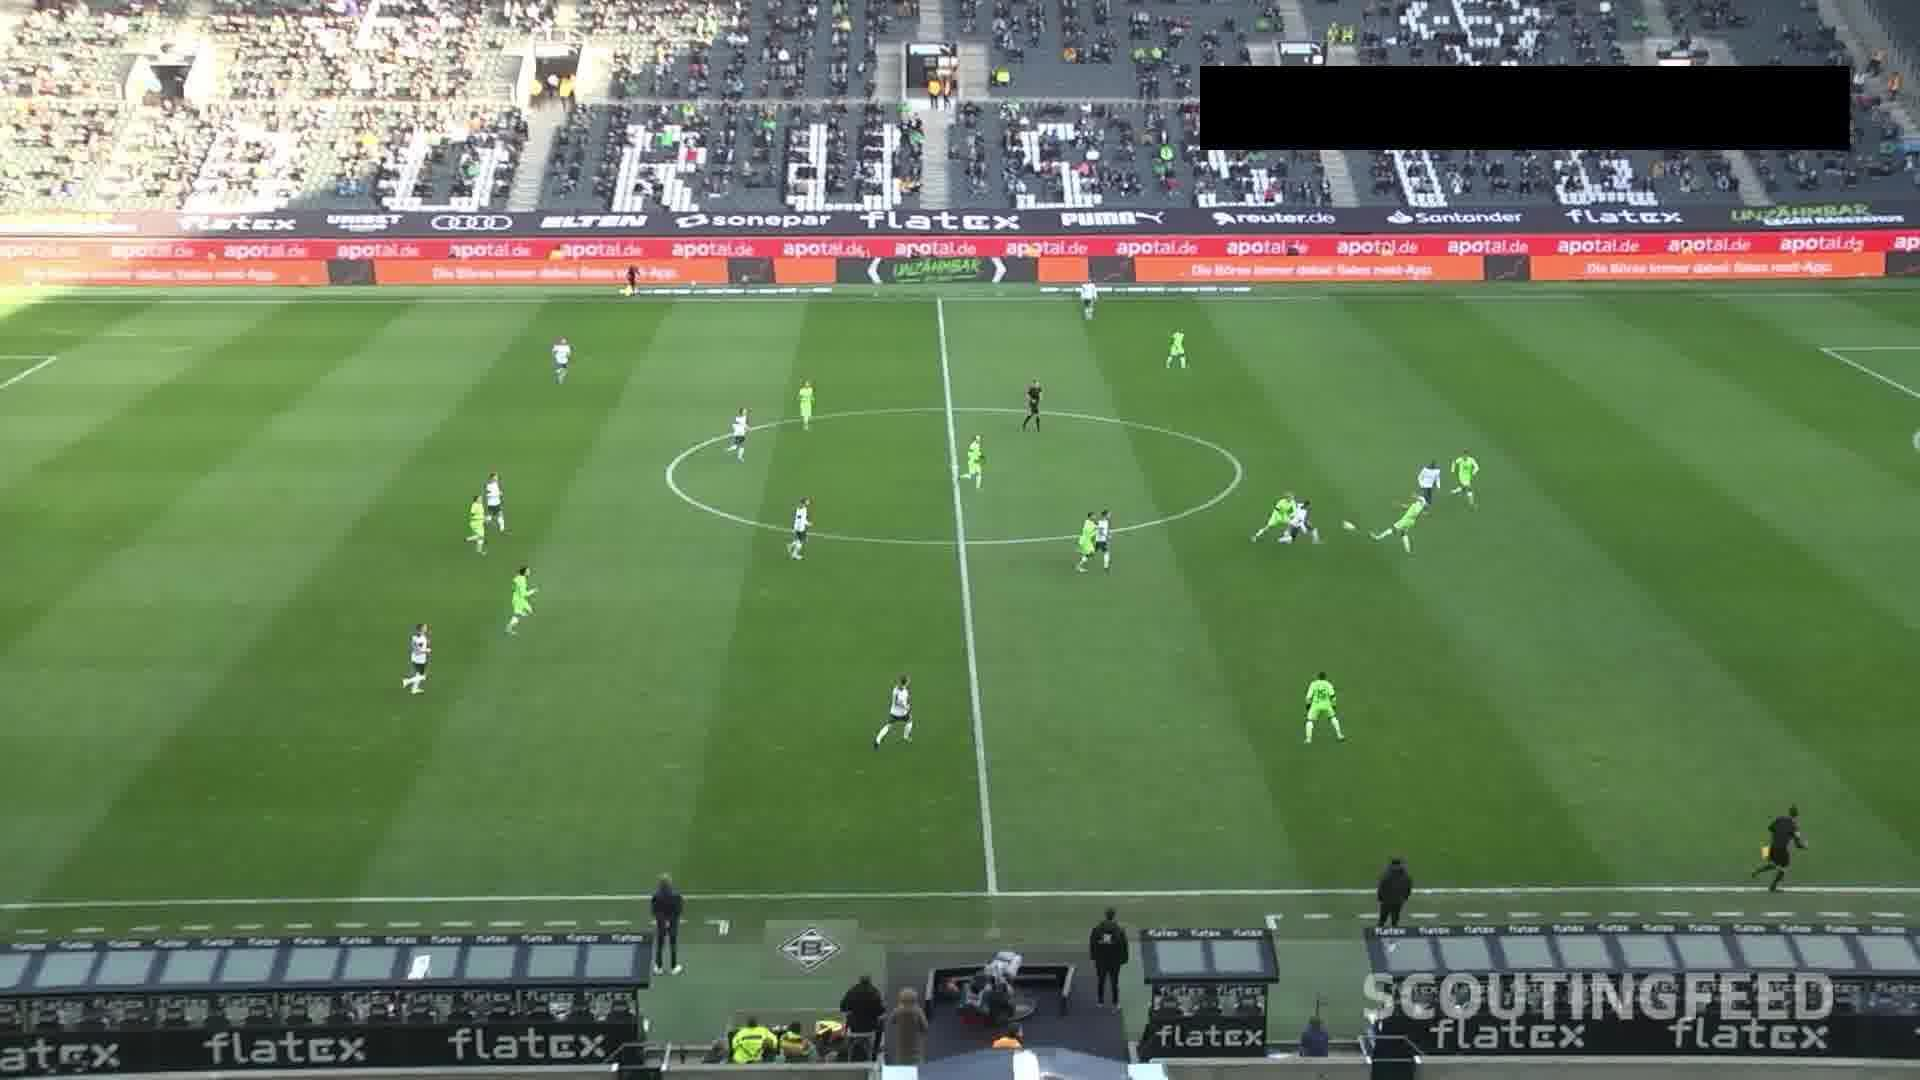football: (1341, 520, 1357, 531)
